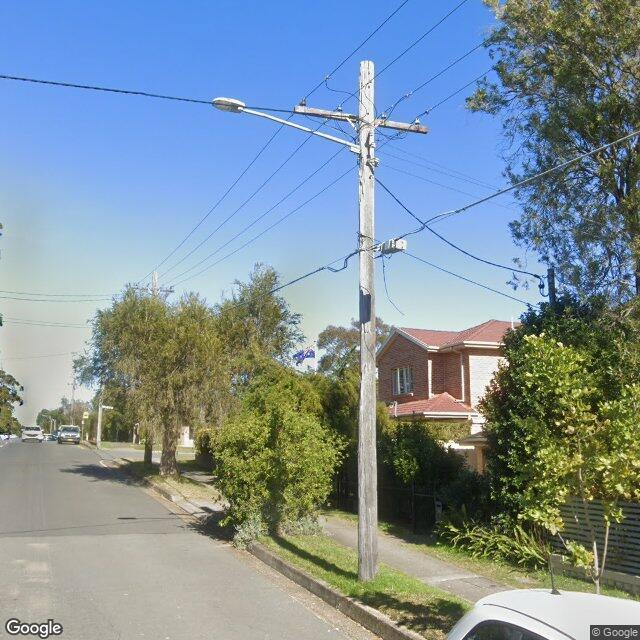crossarm: (294, 103, 428, 134), (131, 281, 175, 294), (66, 382, 78, 386)
streetlight: (212, 96, 362, 154)
timber-pole: (358, 61, 379, 582), (144, 270, 158, 470), (71, 377, 76, 425)
